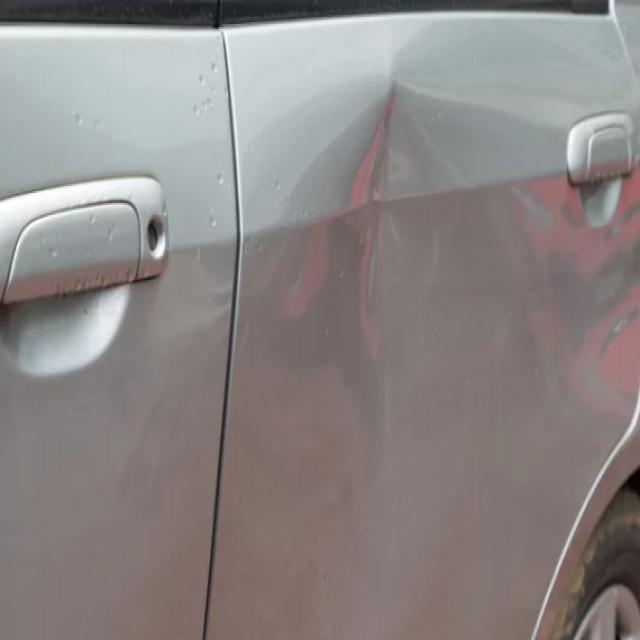dents: (338, 88, 460, 396)
